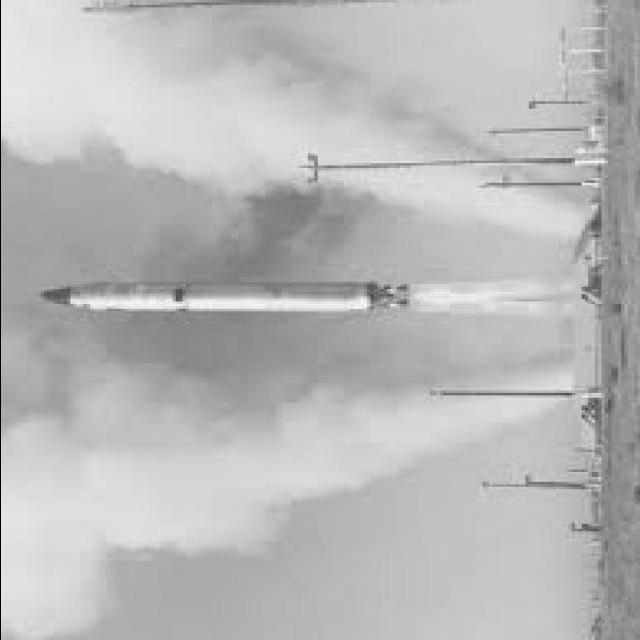missile: (28, 277, 411, 313)
